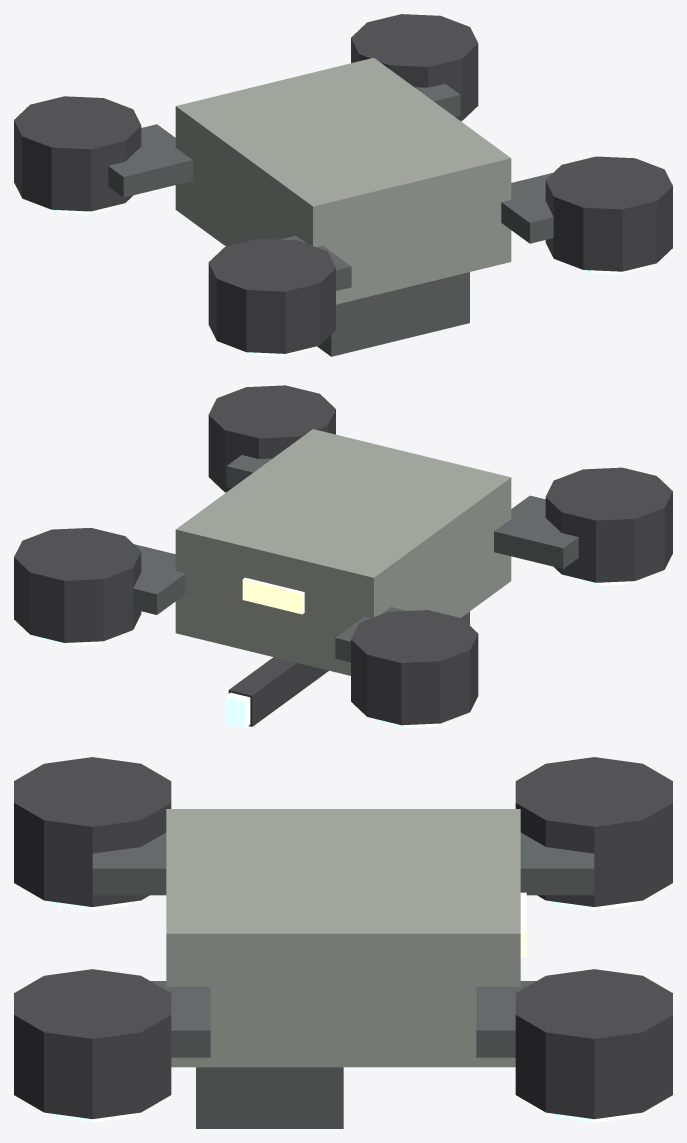
File: ship_XS_MINING_DRONE.glb
3 renders of one model, top to bottom at view 1: azimuth 30°, elevation 25°; view 2: azimuth 150°, elevation 25°; view 3: azimuth 270°, elevation 25°, orthographic. The views are drawn at different scales.
Parts seen in each view (by area): view 1: XS_MINING_DRONE_Hull-col, XS_MINING_DRONE_Engine, XS_MINING_DRONE_Trim, XS_MINING_DRONE_EngineGlow; view 2: XS_MINING_DRONE_Hull-col, XS_MINING_DRONE_Engine, XS_MINING_DRONE_Trim, XS_MINING_DRONE_Lights, XS_MINING_DRONE_EngineGlow; view 3: XS_MINING_DRONE_Hull-col, XS_MINING_DRONE_Engine, XS_MINING_DRONE_Trim, XS_MINING_DRONE_EngineGlow.
Part boxes in pixels (x1=…): XS_MINING_DRONE_Hull-col: x1=175, y1=57, x2=511, y2=304; XS_MINING_DRONE_Engine: x1=14, y1=14, x2=672, y2=353; XS_MINING_DRONE_Trim: x1=108, y1=83, x2=553, y2=356; XS_MINING_DRONE_EngineGlow: x1=38, y1=204, x2=645, y2=356; XS_MINING_DRONE_Hull-col: x1=175, y1=429, x2=511, y2=675; XS_MINING_DRONE_Engine: x1=14, y1=385, x2=672, y2=726; XS_MINING_DRONE_Trim: x1=133, y1=455, x2=578, y2=662; XS_MINING_DRONE_Lights: x1=242, y1=577, x2=304, y2=614; XS_MINING_DRONE_EngineGlow: x1=41, y1=576, x2=648, y2=728; XS_MINING_DRONE_Hull-col: x1=166, y1=809, x2=520, y2=1067; XS_MINING_DRONE_Engine: x1=14, y1=757, x2=672, y2=1119; XS_MINING_DRONE_Trim: x1=92, y1=832, x2=594, y2=1128; XS_MINING_DRONE_EngineGlow: x1=51, y1=901, x2=635, y2=1122.
Bounding box in the file's own units: 2.26 × 0.8 × 2.23.
